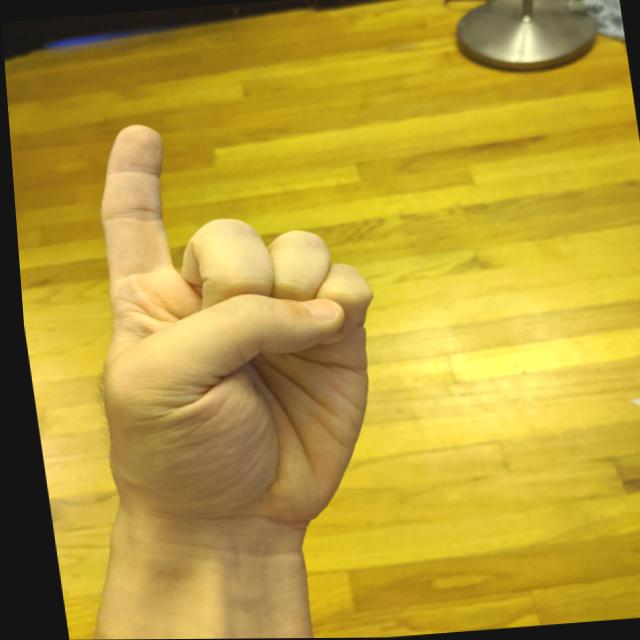D: (48, 100, 409, 550)
